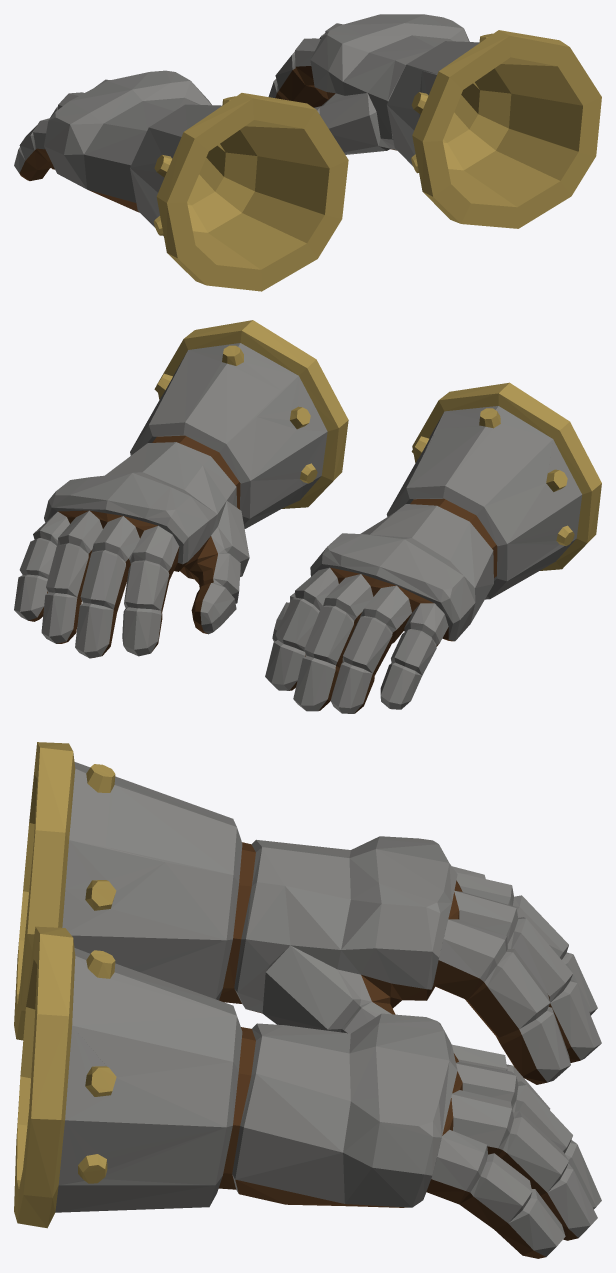
The model's file is IronGauntlets.fbx.
3 views of the same model, one above another, from view 1: azimuth 30°, elevation 25°; view 2: azimuth 150°, elevation 25°; view 3: azimuth 270°, elevation 25° (orthographic). The views are drawn at different scales.
Visible parts, largest first — view 1: IronGauntlets_Right, IronGauntlets_Left; view 2: IronGauntlets_Right, IronGauntlets_Left; view 3: IronGauntlets_Right, IronGauntlets_Left.
Boxes of the visible parts, bbox=[...] form: IronGauntlets_Right: bbox=[268, 14, 601, 228]; IronGauntlets_Left: bbox=[14, 70, 348, 291]; IronGauntlets_Right: bbox=[14, 320, 348, 658]; IronGauntlets_Left: bbox=[265, 382, 601, 713]; IronGauntlets_Right: bbox=[14, 926, 601, 1258]; IronGauntlets_Left: bbox=[14, 742, 601, 1084].
Bounding box in the file's own units: 0.416 × 0.3274 × 0.1852.
